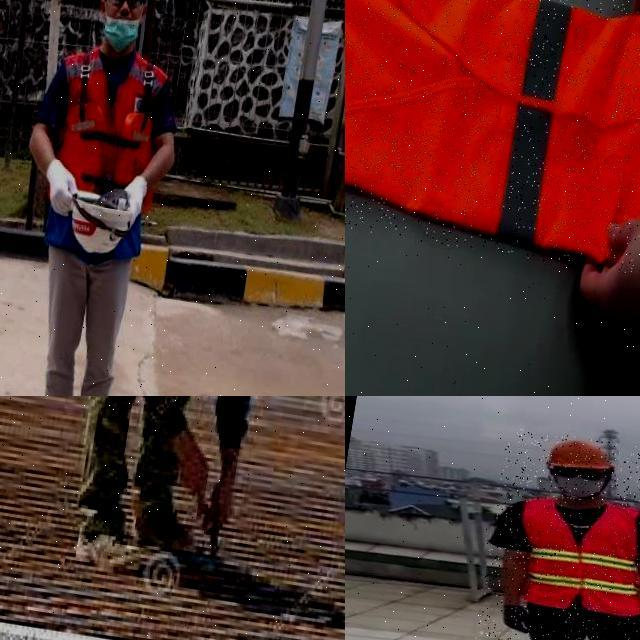boots: (66, 508, 155, 592), (124, 485, 203, 567)
helmet: (63, 184, 135, 264), (544, 434, 618, 477)
vest: (345, 0, 640, 291), (34, 42, 174, 264), (509, 492, 640, 622)
